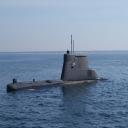submarine: (8, 54, 109, 93)
